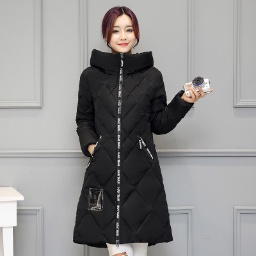face: (98, 4, 144, 55)
